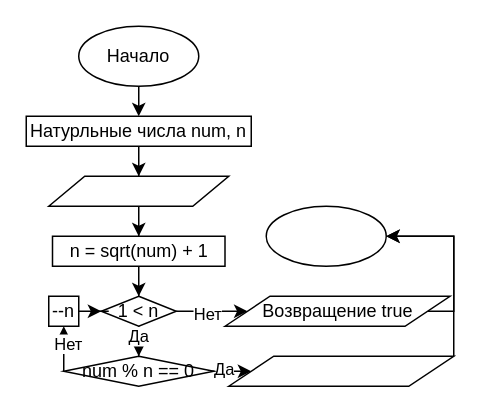
Some shapes in this 492 by 413 pixel diagram are drawn without their labels. The shapes that lost their labels are listed below. From the top down, each one's centre as x and y in pixels, then its label:
At point (138, 190): "Получение num".
At point (325, 235): "Конец".
At point (340, 370): "Возвращение false".
